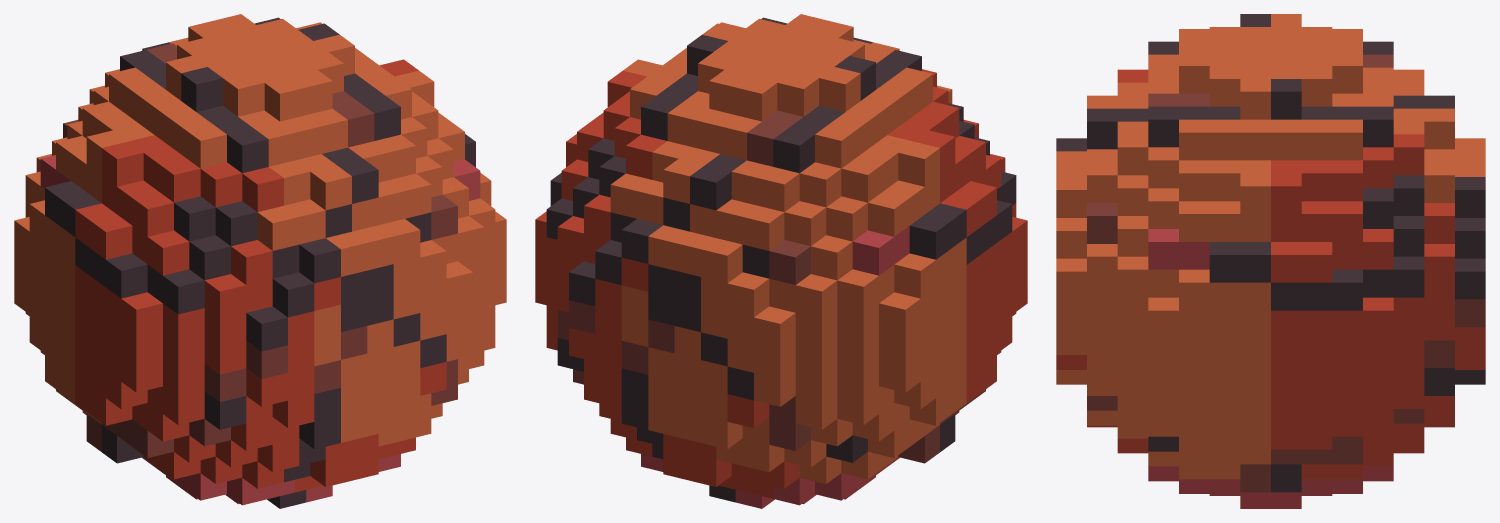
Rendered from basketball.glb.
The picture shows the model from 3 angles, left to right: view 1: azimuth 30°, elevation 25°; view 2: azimuth 150°, elevation 25°; view 3: azimuth 270°, elevation 25°; orthographic projection.
Parts seen in each view (by area): view 1: prop; view 2: prop; view 3: prop.
Part boxes in pixels (x1,y1,x2,y2): prop: (14, 14, 506, 508); prop: (535, 14, 1027, 508); prop: (1056, 14, 1485, 508).
Size of the model in its own units: 14.93 by 16 by 14.93.
